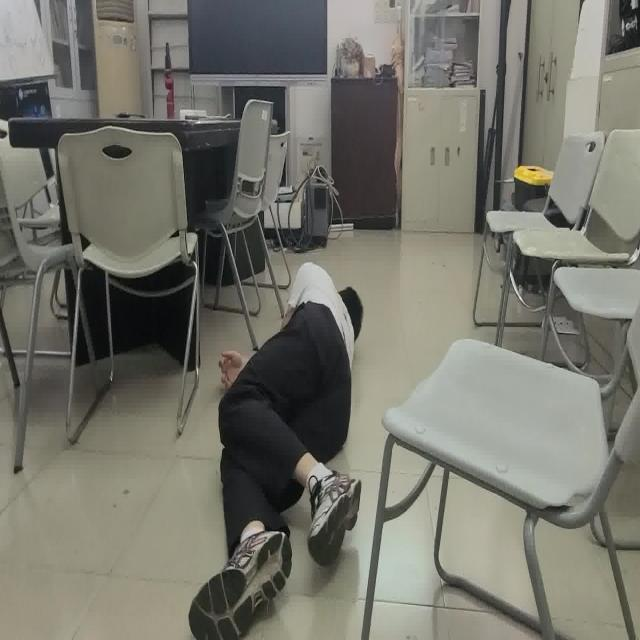Fall-Detected: (184, 258, 365, 640)
